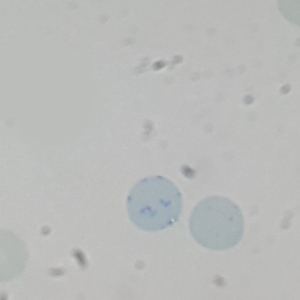aggregate reticulocyte: (123, 174, 185, 233)
punctate reticulocyte: (187, 195, 246, 251)
